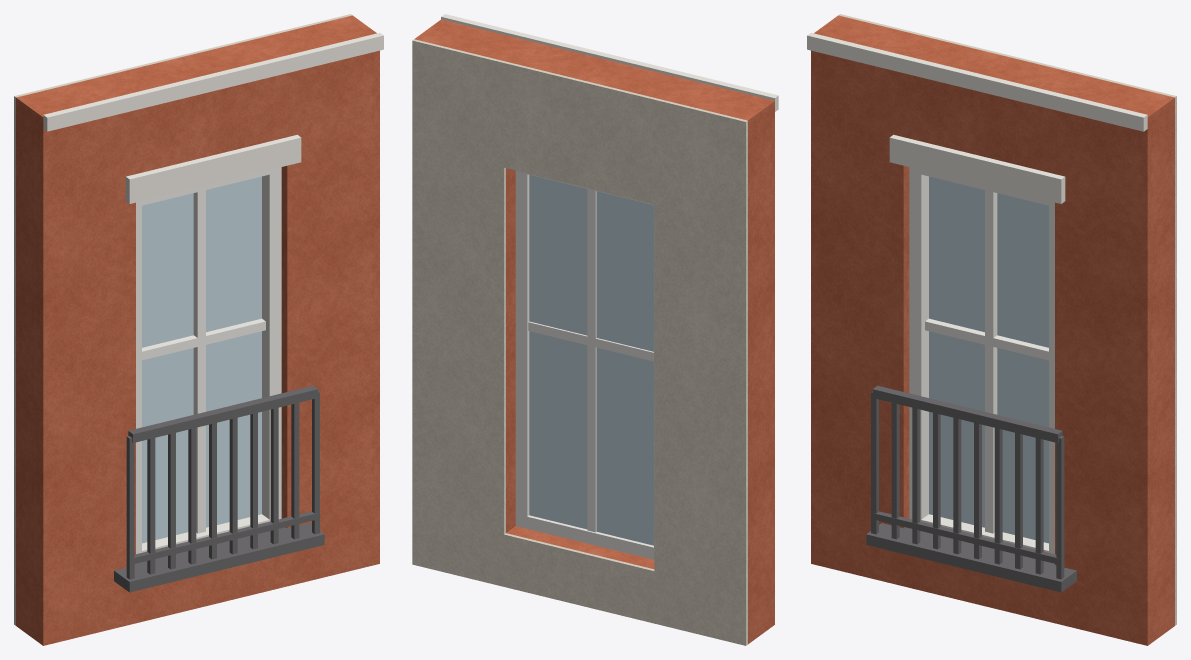
The model's file is wall_render_balconette.glb.
3 renders of one model, left to right at view 1: azimuth 30°, elevation 25°; view 2: azimuth 150°, elevation 25°; view 3: azimuth 330°, elevation 25°, orthographic.
Visible parts, largest first — view 1: wall_render_balconette_render, wall_render_balconette_glass, wall_render_balconette_iron, wall_render_balconette_frame, wall_render_balconette_trim, wall_render_balconette_plaster; view 2: wall_render_balconette_plaster, wall_render_balconette_glass, wall_render_balconette_render, wall_render_balconette_frame, wall_render_balconette_trim; view 3: wall_render_balconette_render, wall_render_balconette_glass, wall_render_balconette_iron, wall_render_balconette_frame, wall_render_balconette_trim, wall_render_balconette_plaster.
Part boxes in pixels (<box>): wall_render_balconette_render: <box>16,15,379,645</box>; wall_render_balconette_glass: <box>142,176,261,543</box>; wall_render_balconette_iron: <box>114,385,324,592</box>; wall_render_balconette_frame: <box>136,167,281,553</box>; wall_render_balconette_trim: <box>43,32,383,203</box>; wall_render_balconette_plaster: <box>14,14,352,625</box>; wall_render_balconette_plaster: <box>412,39,747,645</box>; wall_render_balconette_glass: <box>529,175,653,545</box>; wall_render_balconette_render: <box>414,19,774,644</box>; wall_render_balconette_frame: <box>515,171,654,559</box>; wall_render_balconette_trim: <box>441,14,778,111</box>; wall_render_balconette_render: <box>811,15,1174,645</box>; wall_render_balconette_glass: <box>929,176,1048,543</box>; wall_render_balconette_iron: <box>866,385,1076,592</box>; wall_render_balconette_frame: <box>909,167,1054,553</box>; wall_render_balconette_trim: <box>807,32,1147,203</box>; wall_render_balconette_plaster: <box>838,14,1176,625</box>.
Bounding box in the file's own units: 2 × 3.02 × 0.46.
Materials: 6 (2 with a texture image).
